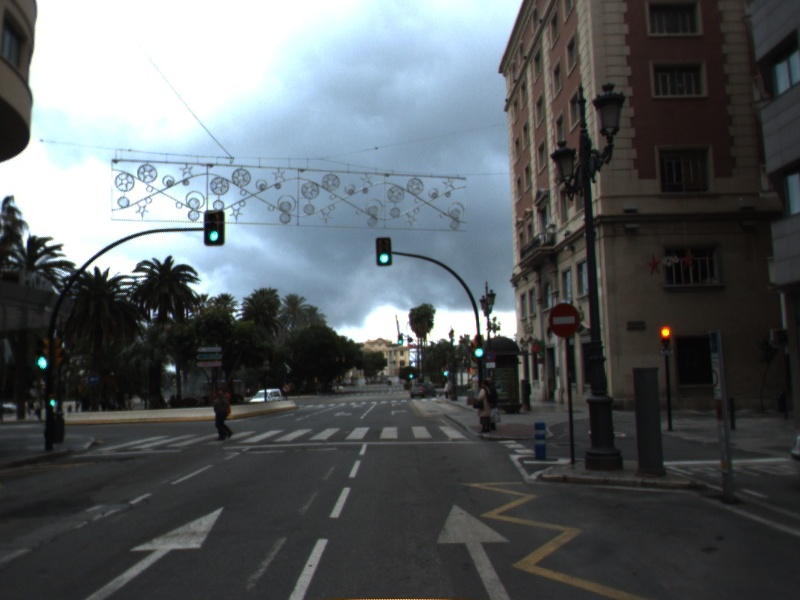STRAIGHT: (81, 503, 227, 600), (434, 501, 516, 600)
